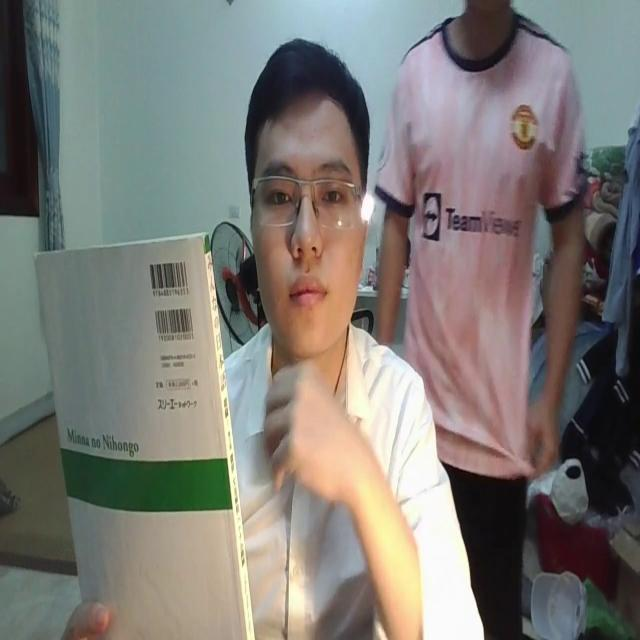book: (33, 223, 256, 640)
extra_person: (371, 2, 589, 640)
student: (221, 35, 468, 640)
